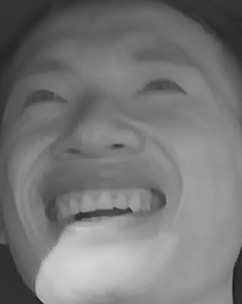eye: (129, 72, 194, 108), (17, 81, 71, 113)
mouth: (38, 172, 169, 238)
